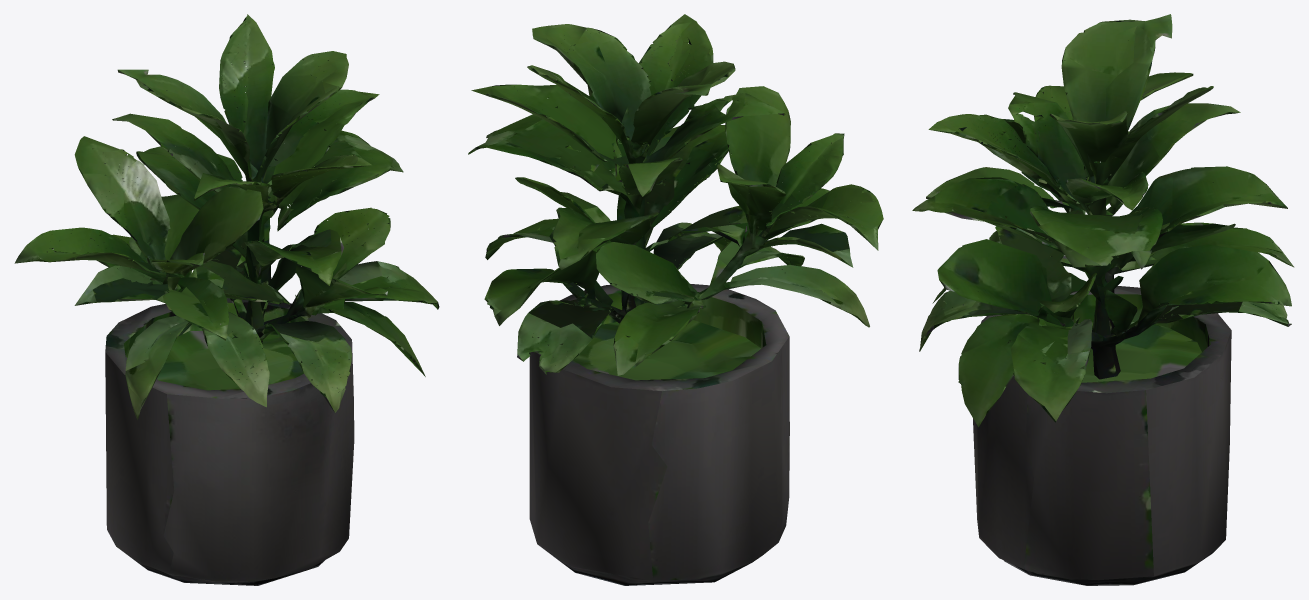
The model's file is plant.glb.
The picture shows the model from 3 angles, left to right: view 1: azimuth 30°, elevation 25°; view 2: azimuth 150°, elevation 25°; view 3: azimuth 270°, elevation 25°; orthographic projection. The views are drawn at different scales.
Parts seen in each view (by area): view 1: tmps8fdld1n.ply; view 2: tmps8fdld1n.ply; view 3: tmps8fdld1n.ply.
Boxes of the visible parts, <box> form: tmps8fdld1n.ply: <box>14,14,439,585</box>; tmps8fdld1n.ply: <box>468,14,883,585</box>; tmps8fdld1n.ply: <box>912,14,1294,585</box>.
Size of the model in its own units: 1.73 by 1.95 by 1.38.
1 material, 1 textured.
